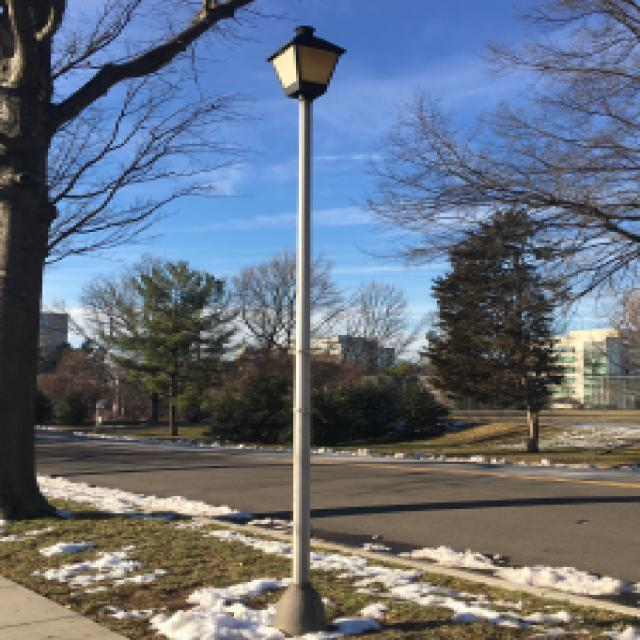Electric pole: (268, 26, 347, 637)
